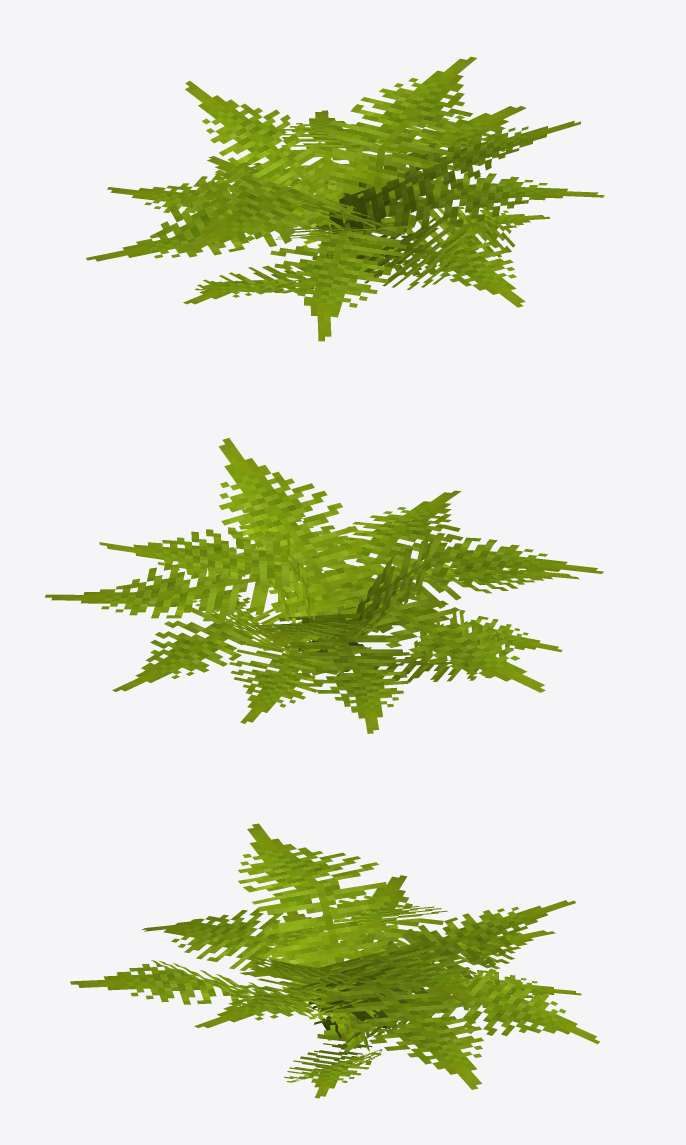
File: fern-sword.lod2.glb
The picture shows the model from 3 angles, top to bottom: view 1: azimuth 30°, elevation 25°; view 2: azimuth 150°, elevation 25°; view 3: azimuth 270°, elevation 25°; orthographic projection. The views are drawn at different scales.
Parts seen in each view (by area): view 1: Object_4; view 2: Object_4; view 3: Object_4.
Boxes of the visible parts, bbox=[...] form: Object_4: bbox=[86, 56, 604, 341]; Object_4: bbox=[45, 438, 603, 733]; Object_4: bbox=[70, 823, 599, 1098].
Bounding box in the file's own units: 2.81 × 0.7552 × 2.73.
1 material, 1 textured.
